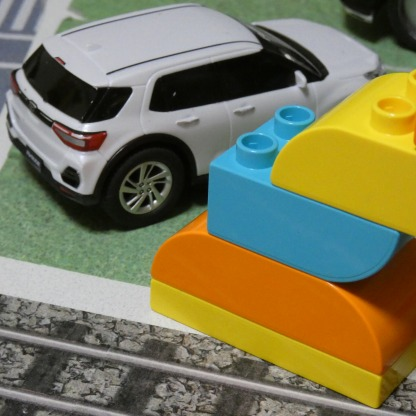car: (5, 5, 384, 229)
